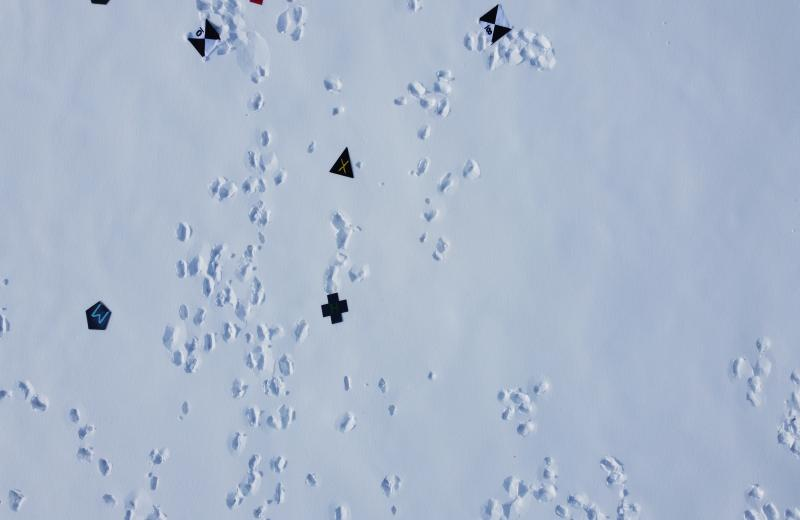Pentagon: (84, 299, 112, 332)
Triangle: (320, 291, 351, 325), (330, 145, 357, 180)
